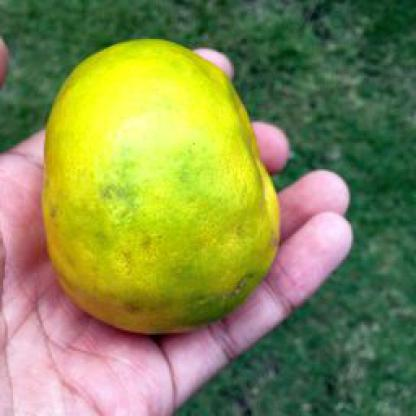orange_rotten: (36, 35, 286, 334)
